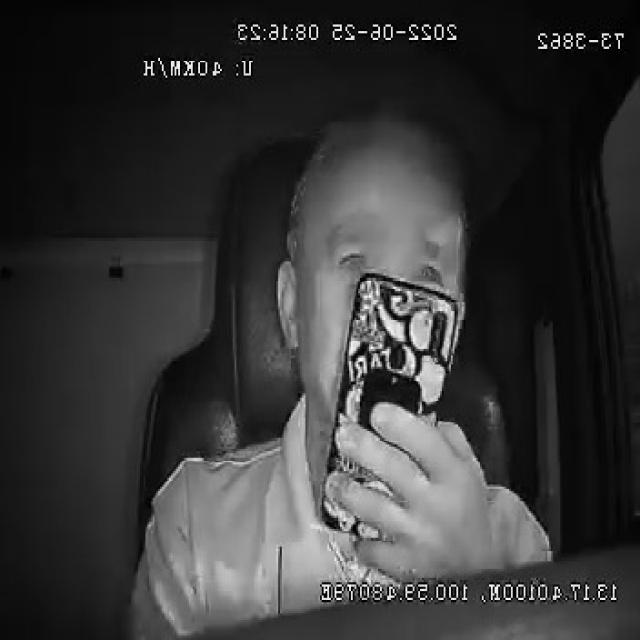phone: (321, 272, 458, 540)
